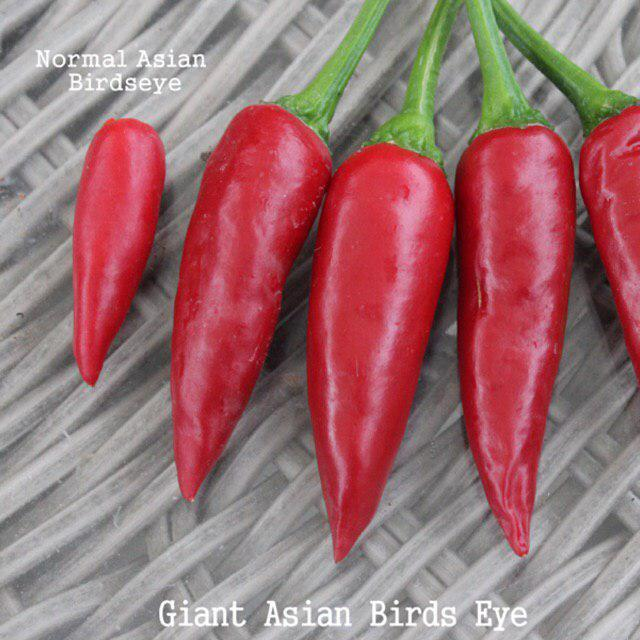lada merah: (147, 83, 355, 515), (292, 124, 484, 571), (461, 106, 561, 567), (40, 91, 175, 388), (580, 86, 640, 425)
